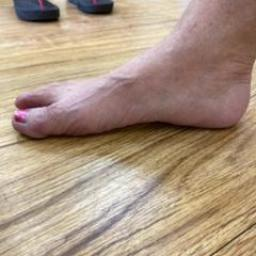Medial View -Right Foot-: (5, 15, 255, 151)
